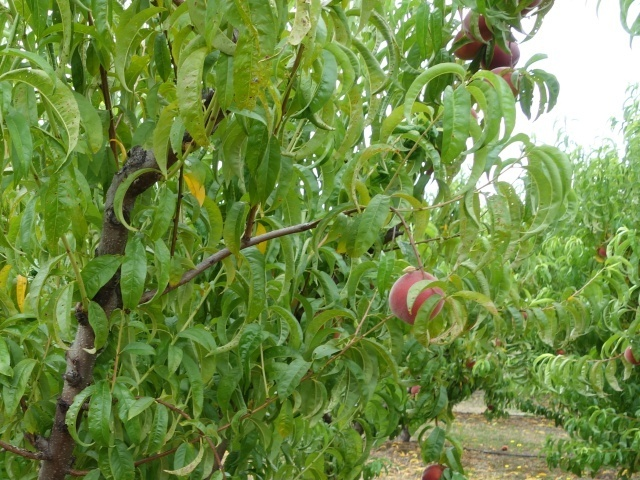peach: (385, 264, 448, 328), (487, 62, 527, 101), (483, 32, 522, 71), (450, 26, 487, 65), (459, 8, 499, 43), (418, 462, 450, 480), (621, 343, 638, 366)
